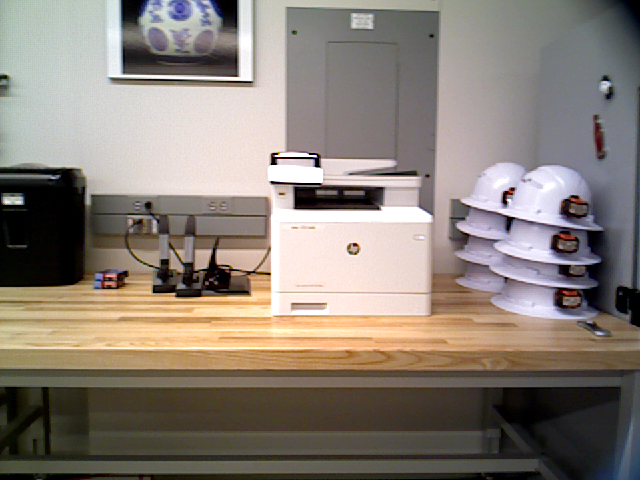painting2: (111, 1, 254, 84)
